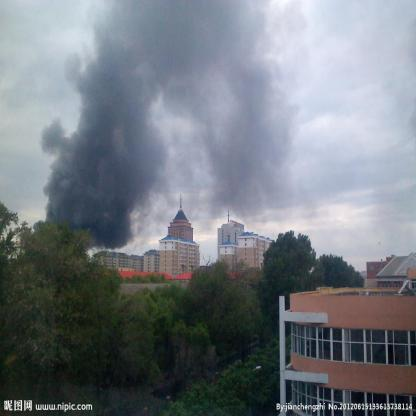smoke: (184, 44, 290, 218), (40, 109, 166, 175), (88, 2, 272, 44), (44, 170, 132, 248), (64, 44, 161, 108)
